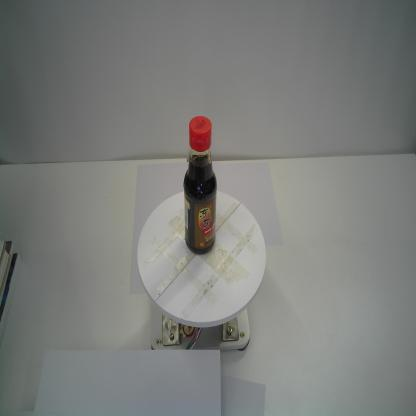Seasoner: (183, 115, 218, 256)
